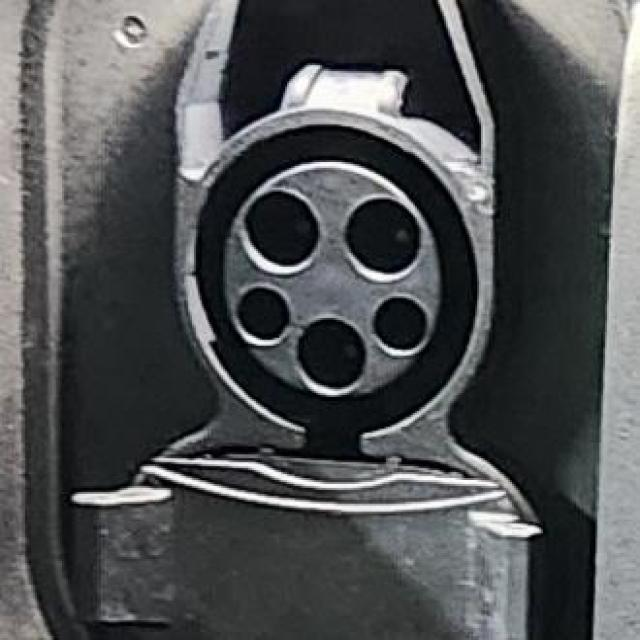Type 1: (123, 101, 541, 424)
